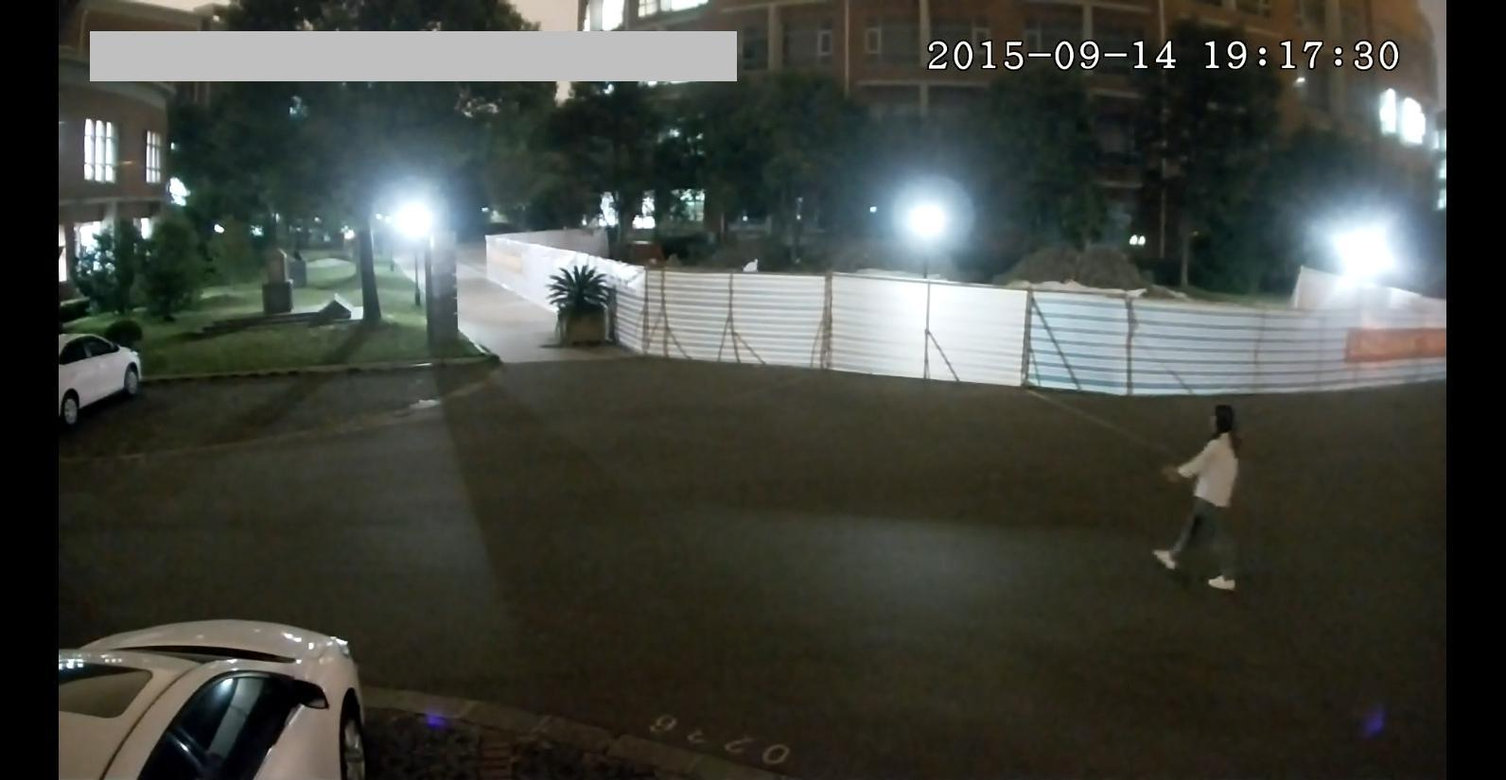person: (1147, 394, 1250, 594)
